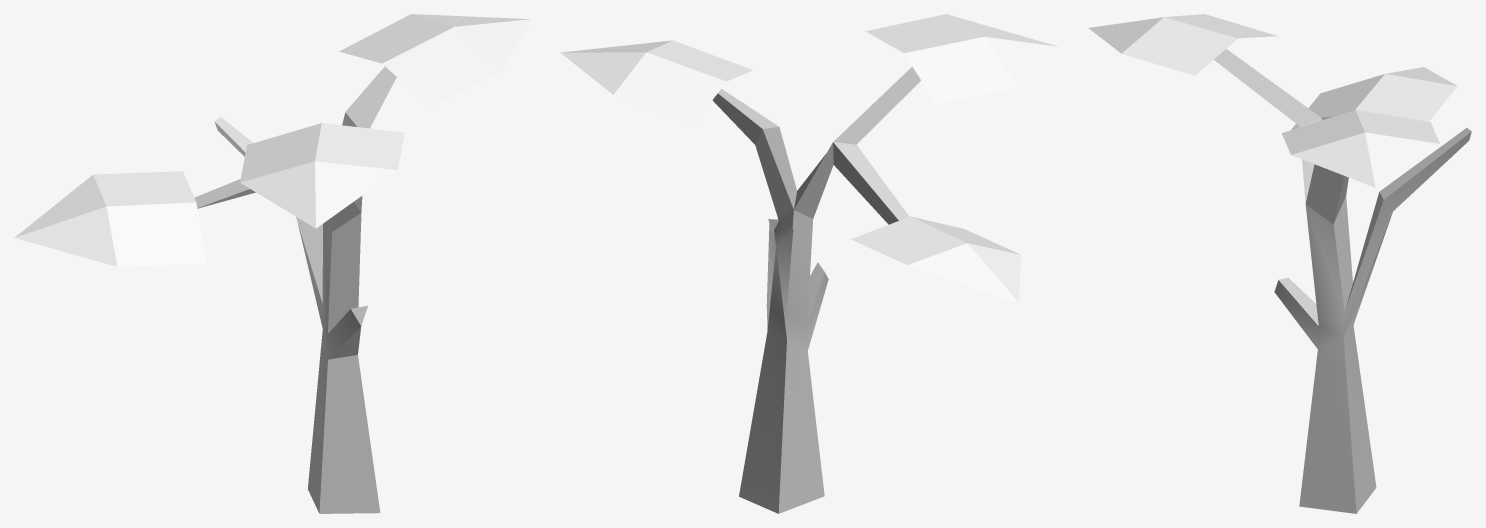
File: SM_Prop_Plant_Bush_03_S.glb
The picture shows the model from 3 angles, left to right: view 1: azimuth 30°, elevation 25°; view 2: azimuth 150°, elevation 25°; view 3: azimuth 270°, elevation 25°; orthographic projection. The views are drawn at different scales.
Visible parts, largest first — view 1: SM_Prop_Plant_Bush_03_S; view 2: SM_Prop_Plant_Bush_03_S; view 3: SM_Prop_Plant_Bush_03_S.
Part boxes in pixels (left/top/right/bottom): SM_Prop_Plant_Bush_03_S: left=14, top=14, right=531, bottom=513; SM_Prop_Plant_Bush_03_S: left=560, top=14, right=1059, bottom=513; SM_Prop_Plant_Bush_03_S: left=1088, top=14, right=1471, bottom=513.
Size of the model in its own units: 0.4195 by 0.3543 by 0.2895.
Materials: 2 (1 with a texture image).
